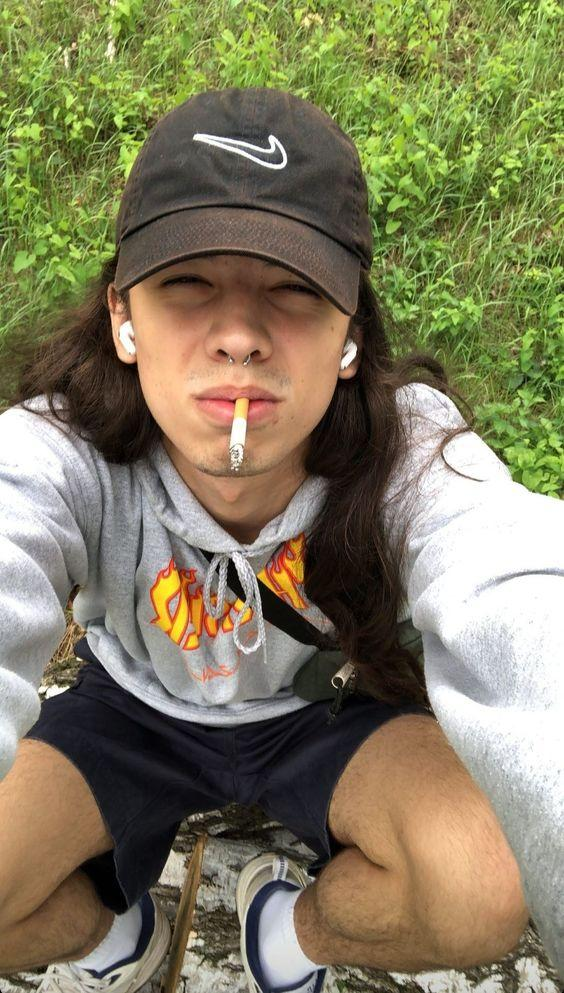cigarette: (229, 398, 248, 470)
